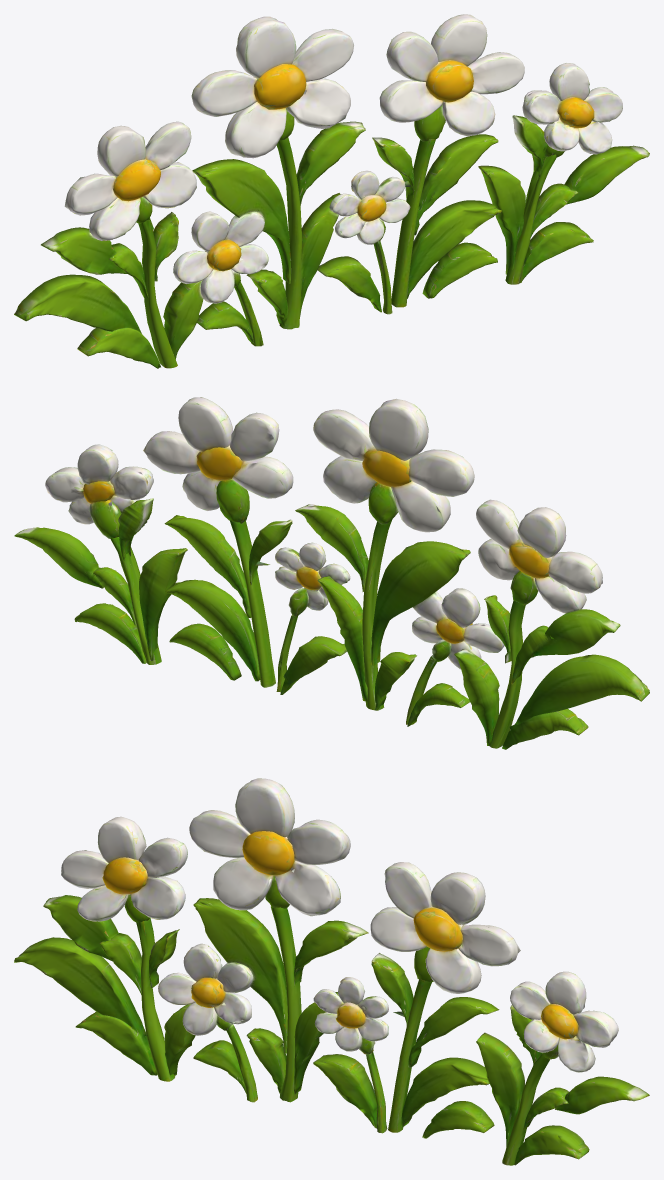
The picture shows the model from 3 angles, top to bottom: view 1: azimuth 30°, elevation 25°; view 2: azimuth 150°, elevation 25°; view 3: azimuth 330°, elevation 25°; orthographic projection.
Size of the model in its own units: 0.9556 by 0.4663 by 0.0596.
1 material, 1 textured.
